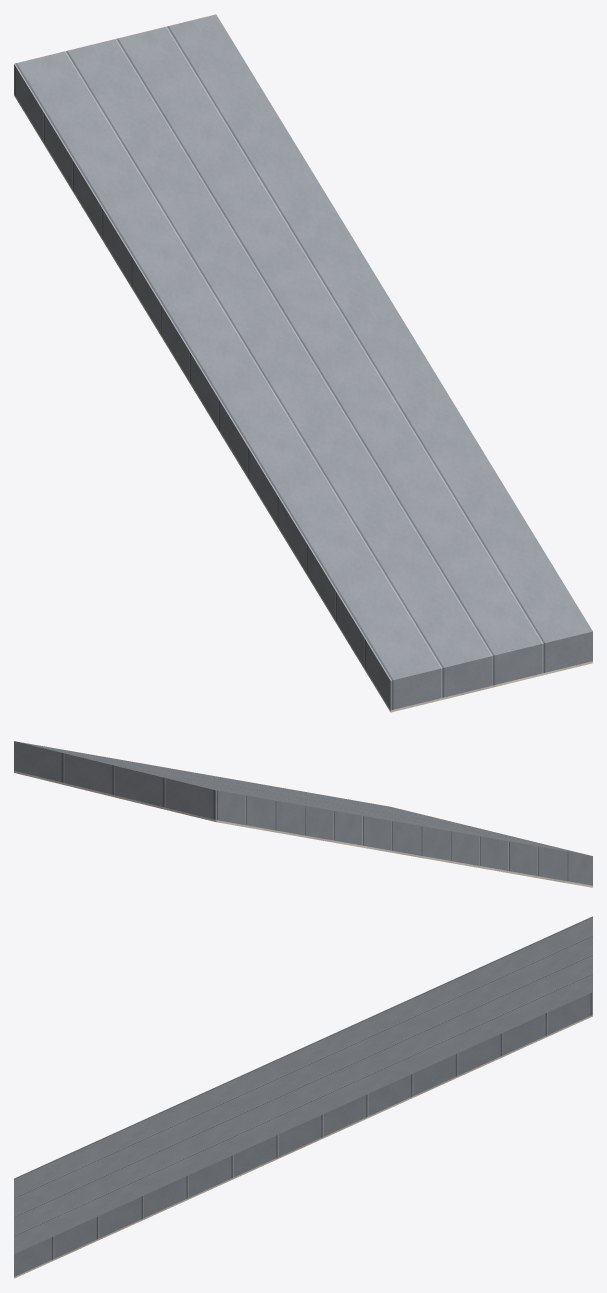
The model's file is hall_slope.glb.
The picture shows the model from 3 angles, top to bottom: view 1: azimuth 30°, elevation 25°; view 2: azimuth 150°, elevation 25°; view 3: azimuth 270°, elevation 25°; orthographic projection. The views are drawn at different scales.
Parts seen in each view (by area): view 1: hall_slope_metal_roof, hall_slope_plaster; view 2: hall_slope_metal_roof, hall_slope_plaster; view 3: hall_slope_metal_roof, hall_slope_plaster.
Part boxes in pixels (x1,y1,x2,y2): hall_slope_metal_roof: [14, 14, 592, 710]; hall_slope_plaster: [14, 94, 592, 712]; hall_slope_metal_roof: [14, 741, 592, 885]; hall_slope_plaster: [14, 771, 592, 887]; hall_slope_metal_roof: [14, 916, 592, 1276]; hall_slope_plaster: [14, 1015, 592, 1278].
Size of the model in its own units: 2 by 3.53 by 6.45.
2 materials, 2 textured.
